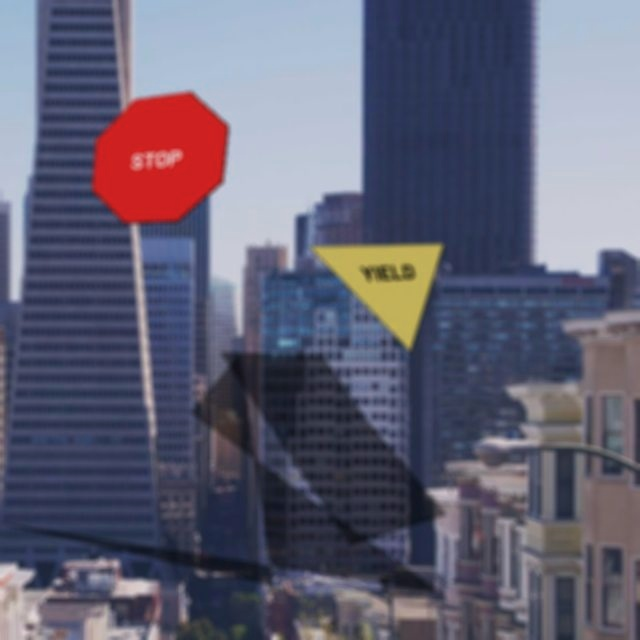STOP: (91, 91, 229, 224)
YIELD: (307, 243, 445, 353)
